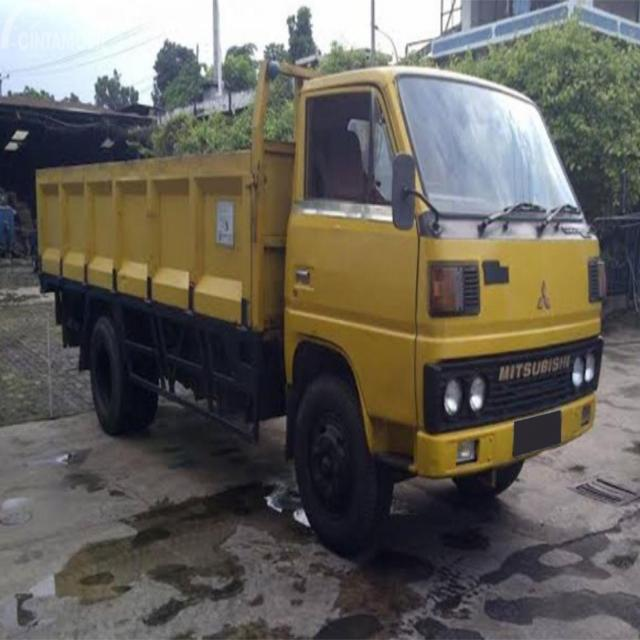truck: (35, 62, 610, 531)
